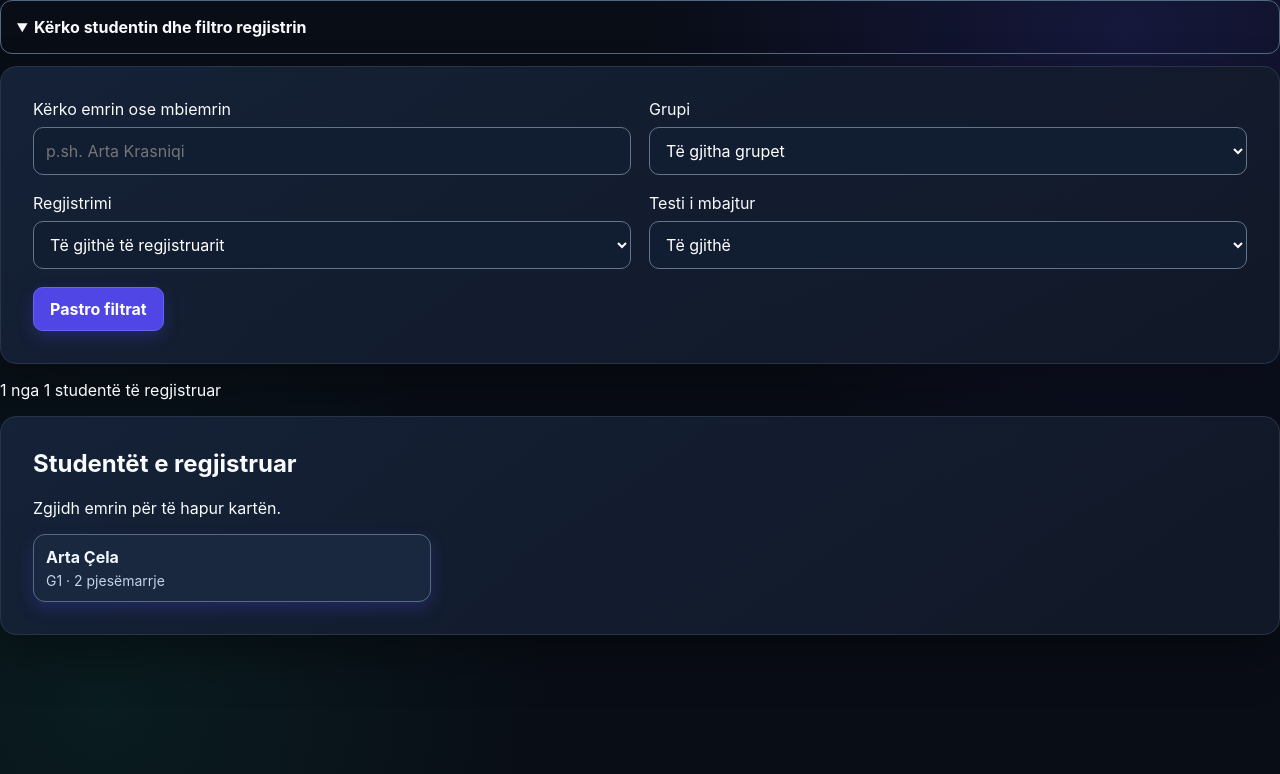
it: does not open an arbitrary student card for a professor, even with one student
The image size is (1280, 774).
Click the button "Arta Çela G1 · 2 pjesëmarrje". click: (82, 557)
box: [33,534,431,602]
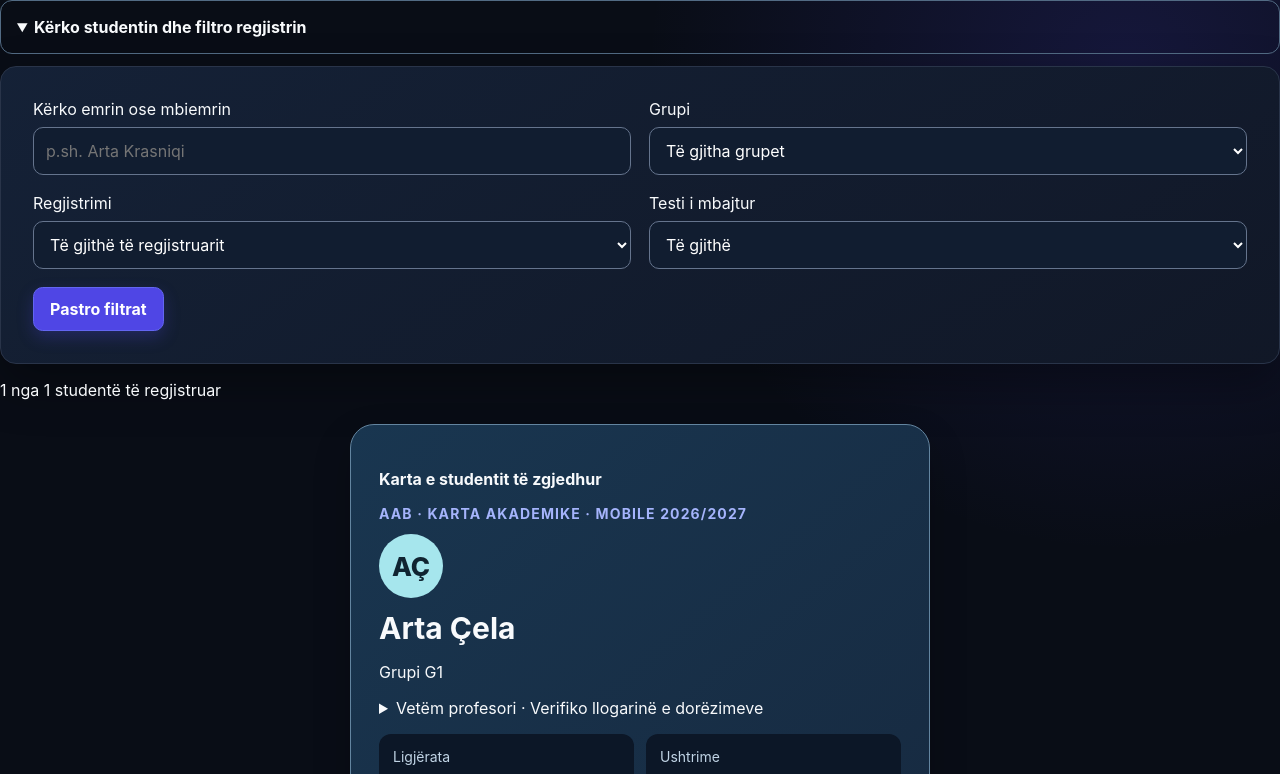
Result: the heading "Arta Çela" is shown at [379,610,516,646]
